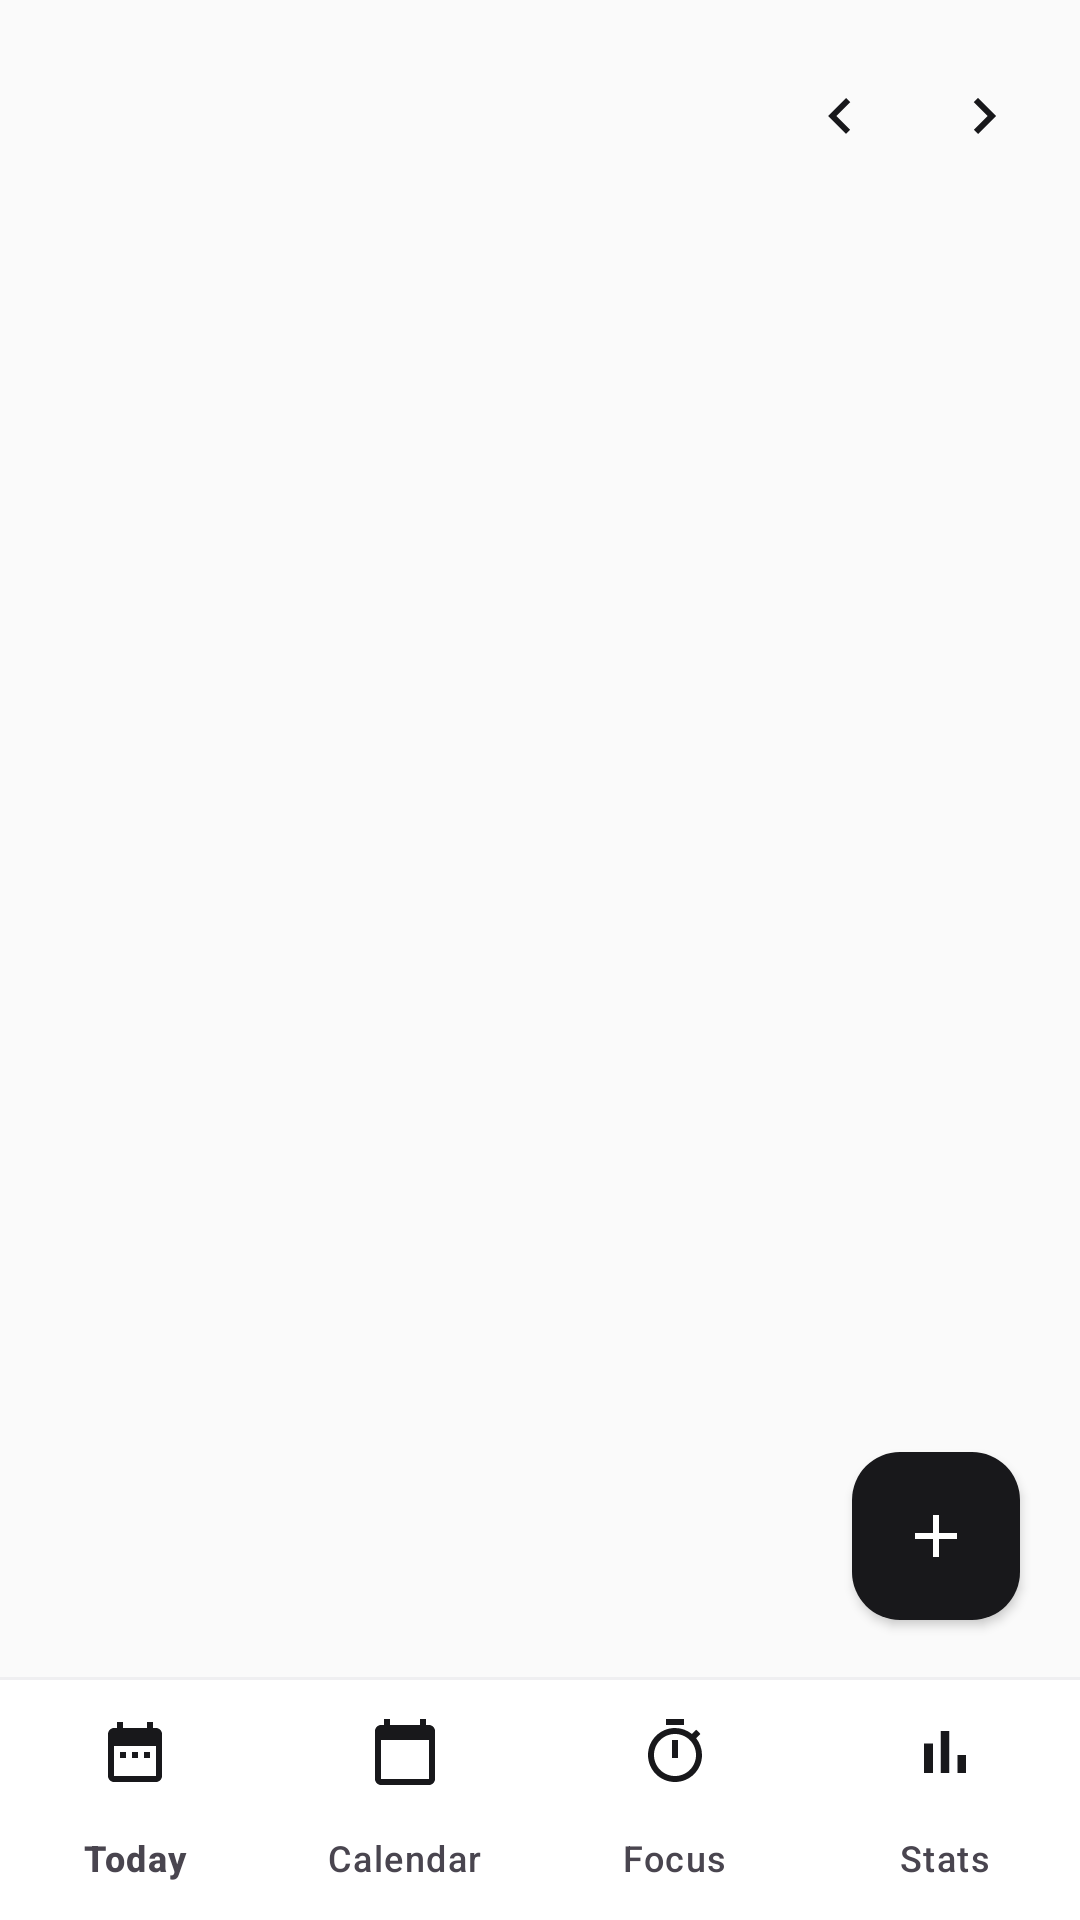

Icons on this 1080w x 1920h Android screen, each with its box as Rect(x1, y1, x2, y2):
Add task: Rect(852, 1452, 1020, 1620)
Next: Rect(974, 98, 996, 134)
Previous: Rect(828, 98, 850, 134)
